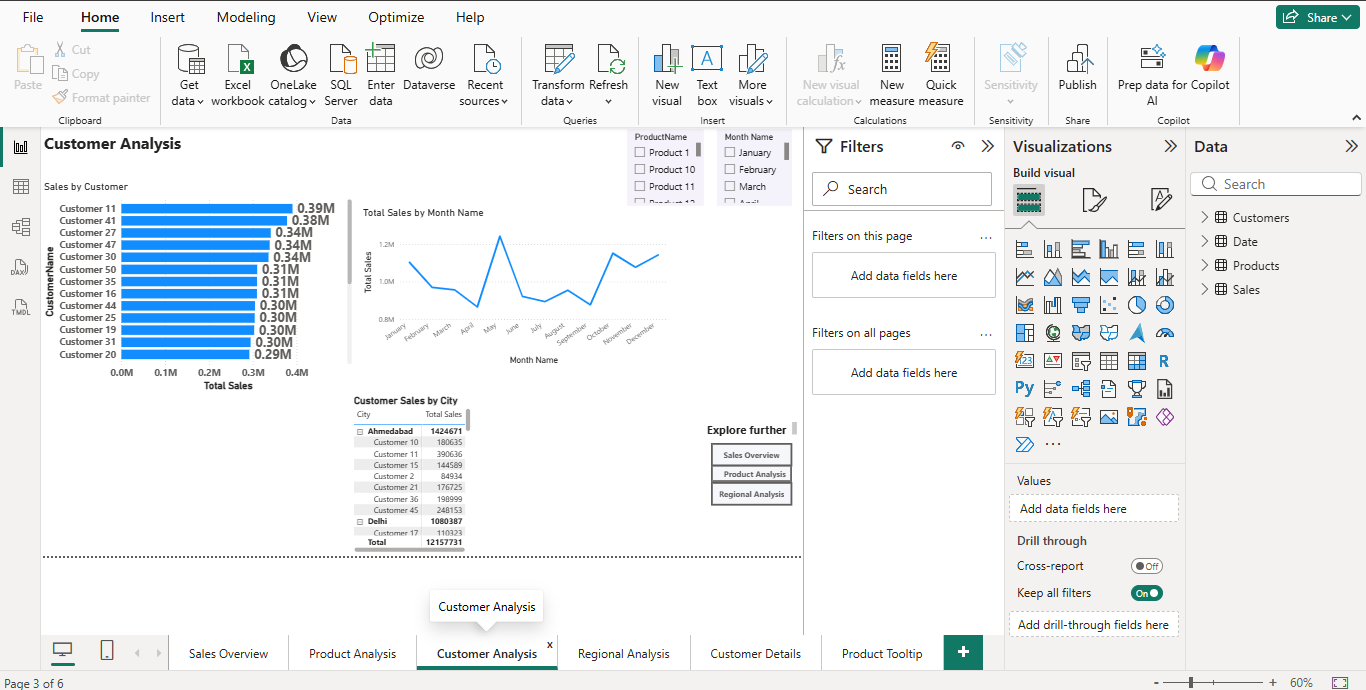

The dashboard page shown, as its layout file describes it:
{"tool":"powerbi","page":{"name":"Customer Analysis","canvas":[1280,720],"ordinal":2},"visuals":[{"type":"clusteredBarChart","title":"Sales by Customer","fields":{"Category":["Customers.CustomerName"],"Y":["Sales.Total Sales"]},"box":[0,89,527.5,359.5],"z":0},{"type":"actionButton","box":[1125.1,565.7,136.1,30.2],"z":1000},{"type":"actionButton","box":[1125.1,596.6,136.6,39.7],"z":2000},{"type":"actionButton","box":[1125.1,530.5,136.6,39.7],"z":3000},{"type":"slicer","fields":{"Values":["Products.ProductName"]},"box":[984.4,3.4,129.3,129.3],"z":4000},{"type":"slicer","fields":{"Values":["Date.Month Name"]},"box":[1135.5,3.4,126,129.3],"z":5000},{"type":"pivotTable","title":"Customer Sales by City","fields":{"Rows":["Customers.City","Customers.CustomerName"],"Values":["Sales.Total Sales"]},"box":[521.2,449,206,271.1],"z":6000},{"type":"textbox","box":[1112.9,490.3,161.3,40.3],"z":7000},{"type":"textbox","box":[0,3.5,278.2,51.1],"z":8000},{"type":"lineChart","fields":{"Category":["Date.Month Name"],"Y":["Sales.Total Sales"]},"box":[535.9,132.7,521,271],"z":9000}]}

Visuals, with their boxes on the page's 1280x720 design canvas (x1, y1, x2, y2). These are canvas units, not pixel positions in the 1366x690 screenshot, which may show the page scaled, cropped or inside an application window:
"Sales by Customer" clusteredBarChart: x1=0, y1=89, x2=528, y2=448
actionButton: x1=1125, y1=566, x2=1261, y2=596
actionButton: x1=1125, y1=597, x2=1262, y2=636
actionButton: x1=1125, y1=530, x2=1262, y2=570
slicer - Products.ProductName: x1=984, y1=3, x2=1114, y2=133
slicer - Date.Month Name: x1=1136, y1=3, x2=1262, y2=133
"Customer Sales by City" pivotTable: x1=521, y1=449, x2=727, y2=720
textbox: x1=1113, y1=490, x2=1274, y2=531
textbox: x1=0, y1=4, x2=278, y2=55
lineChart - Date.Month Name x Sales.Total Sales: x1=536, y1=133, x2=1057, y2=404
